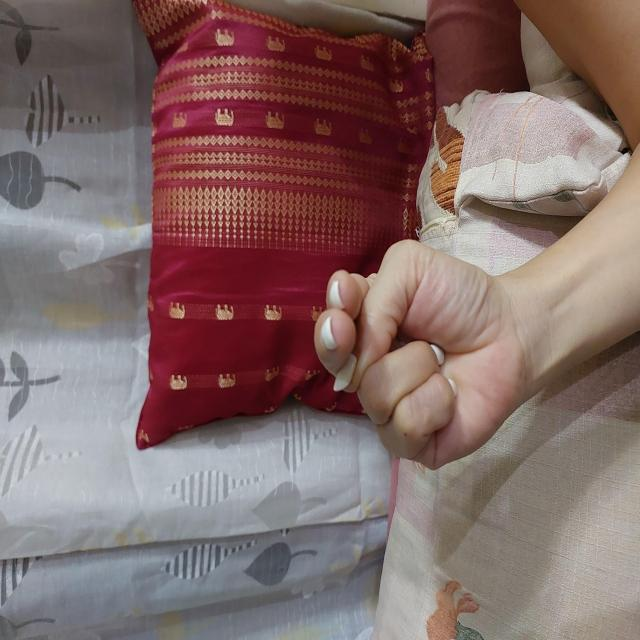N: (168, 312, 406, 519)
